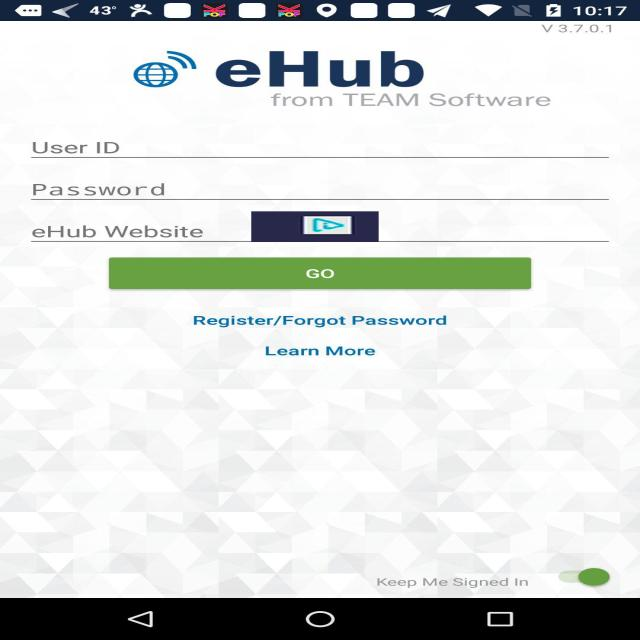sneaking: (251, 211, 379, 242)
